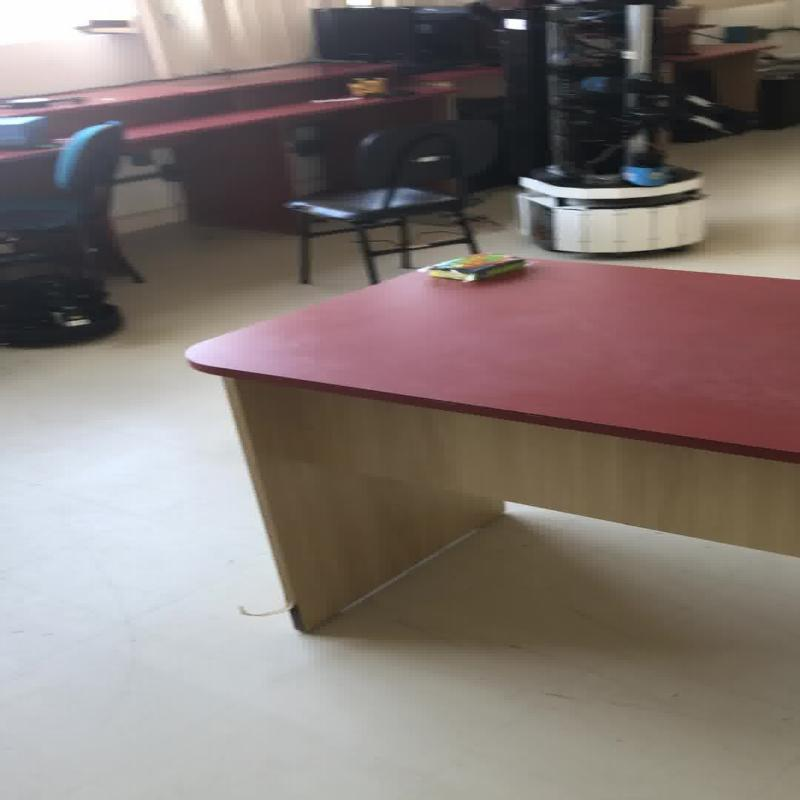sponge: (416, 252, 528, 282)
